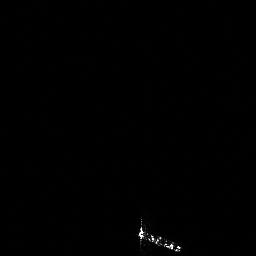ship: (138, 217, 184, 252)
